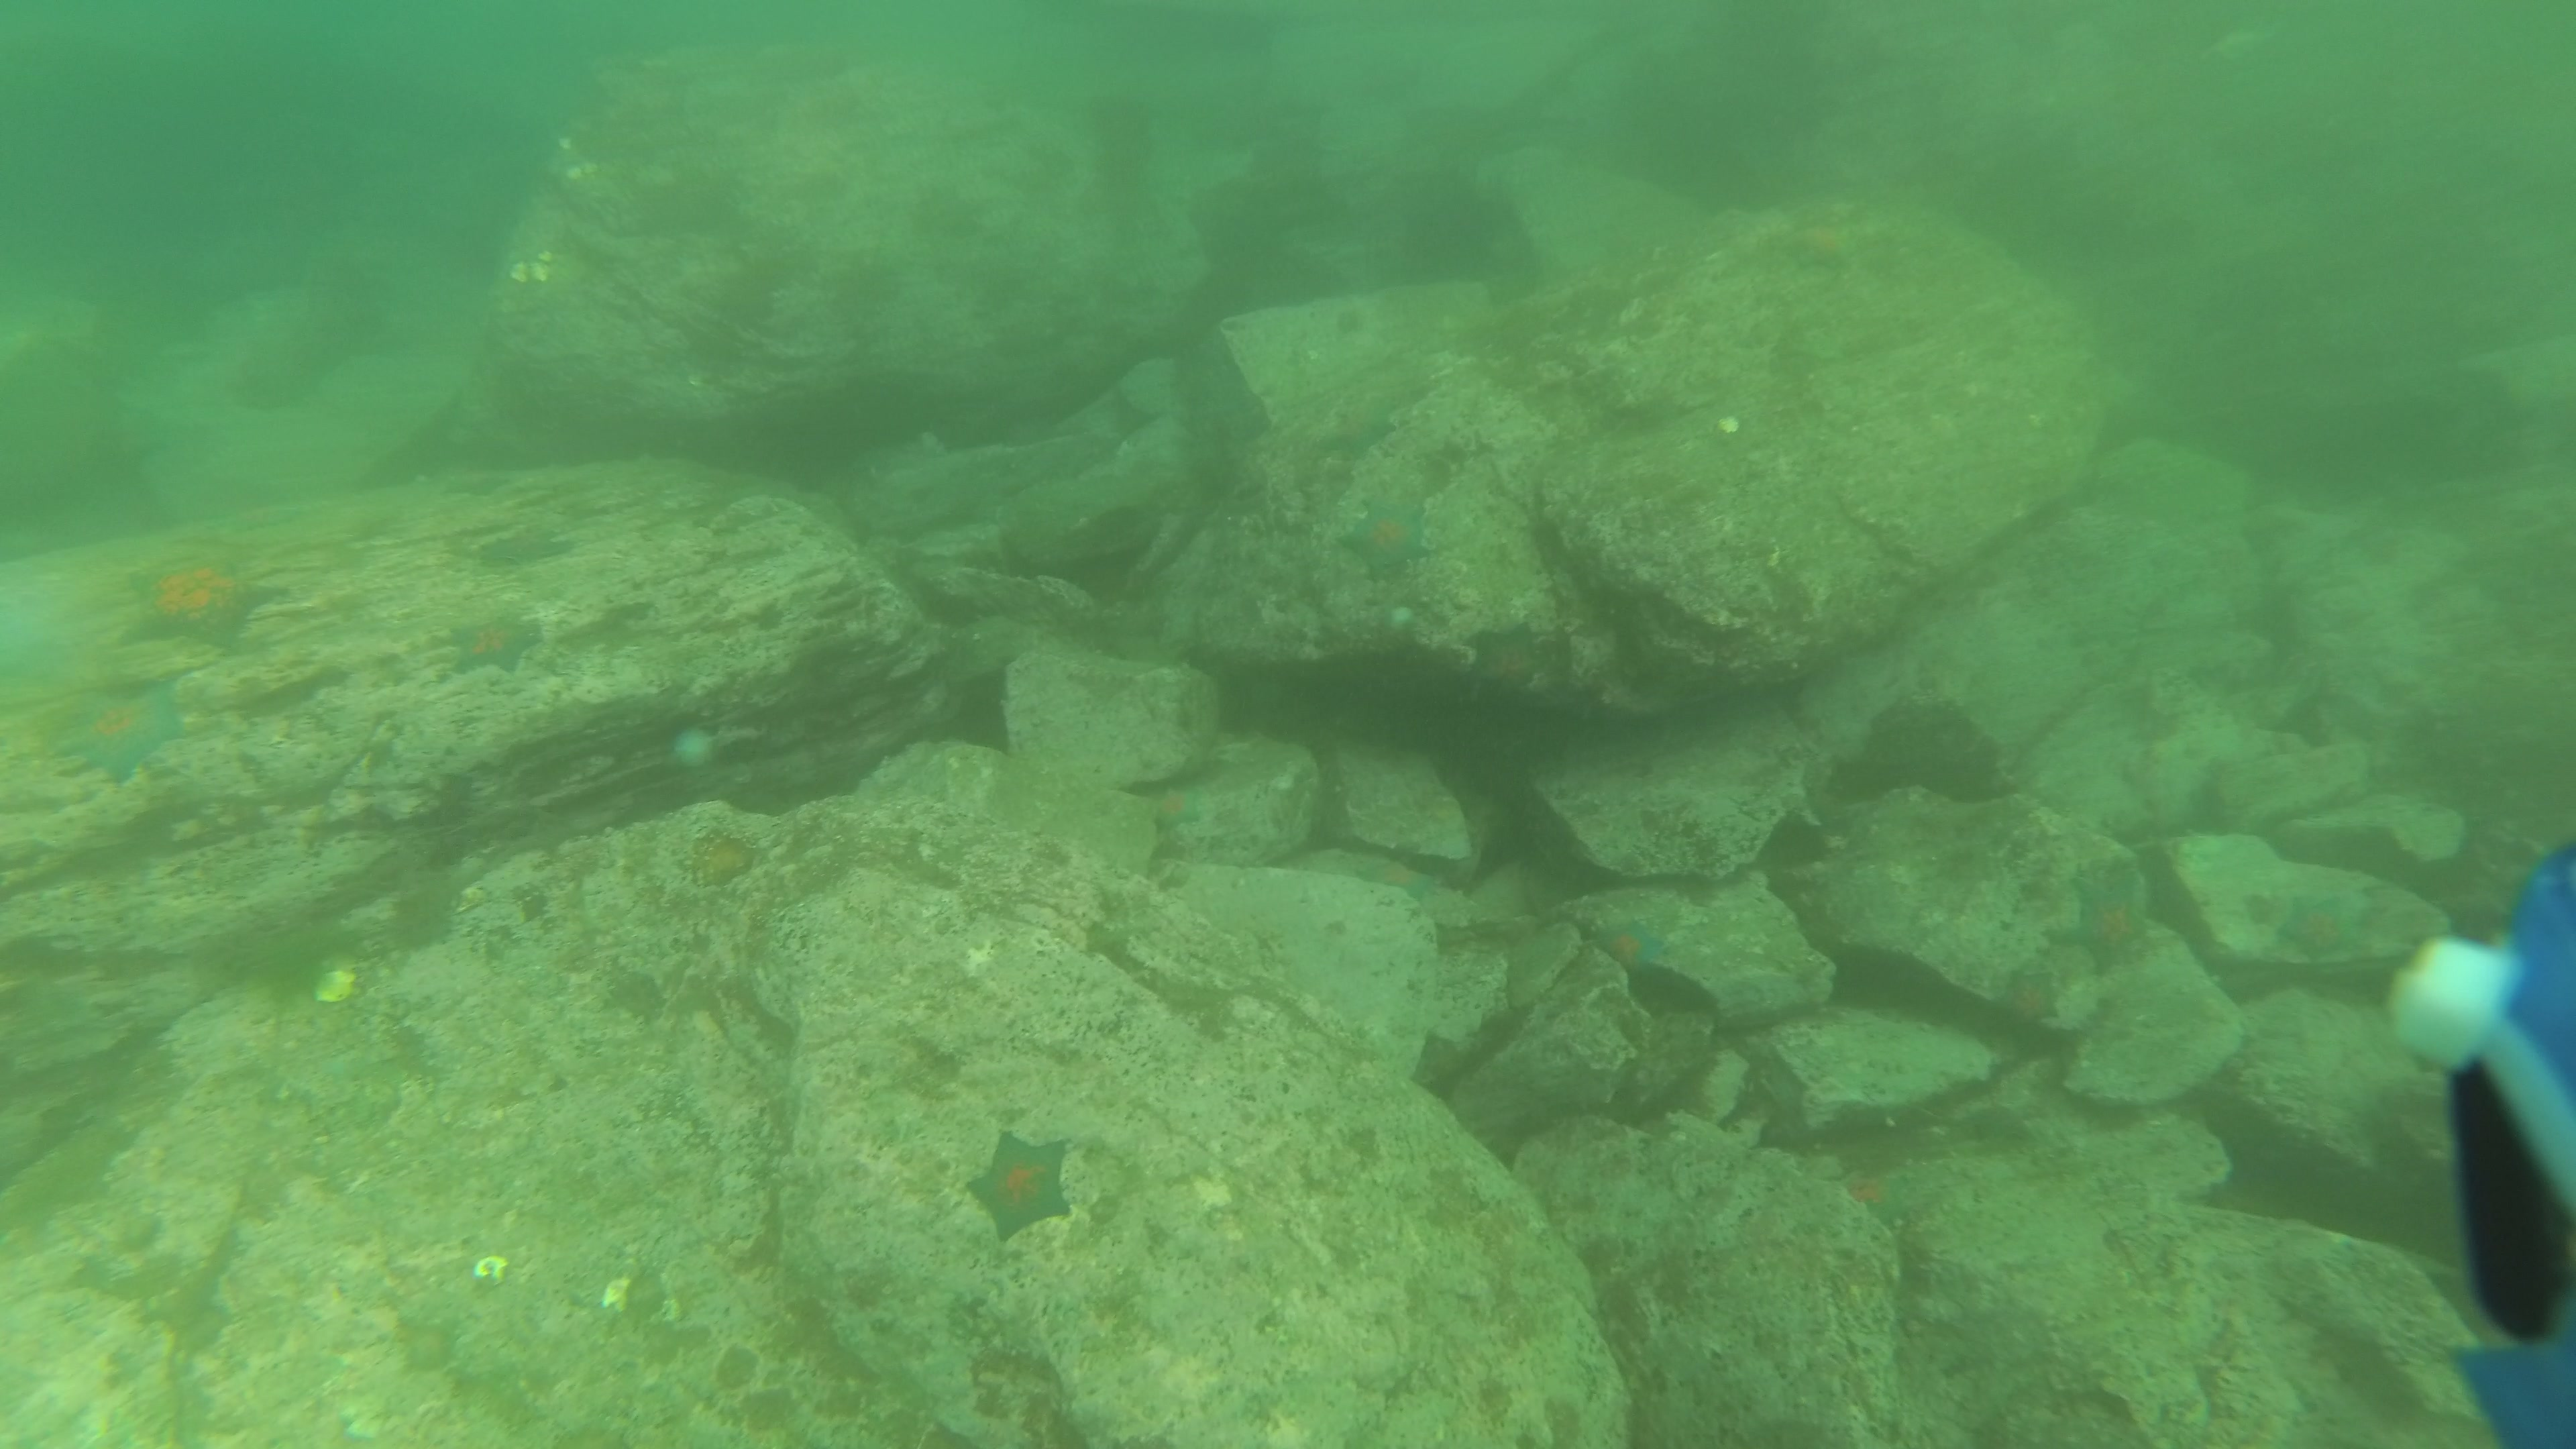starfish: (111, 545, 294, 655), (55, 683, 198, 791), (957, 1123, 1092, 1238), (2049, 869, 2162, 982), (1334, 490, 1437, 582), (1456, 619, 1553, 702), (2266, 890, 2373, 964), (444, 607, 547, 679), (1589, 911, 1672, 980), (471, 524, 584, 571), (1840, 1164, 1921, 1230), (1352, 851, 1438, 908), (1141, 777, 1210, 835)
